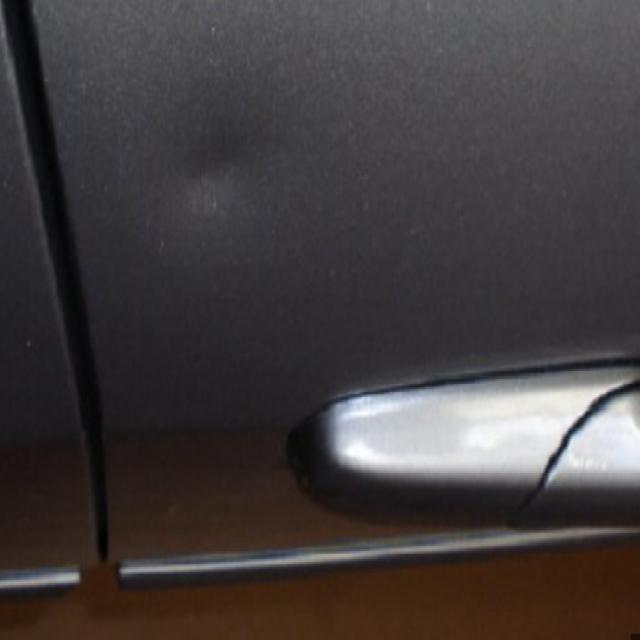dents: (164, 103, 274, 247)
